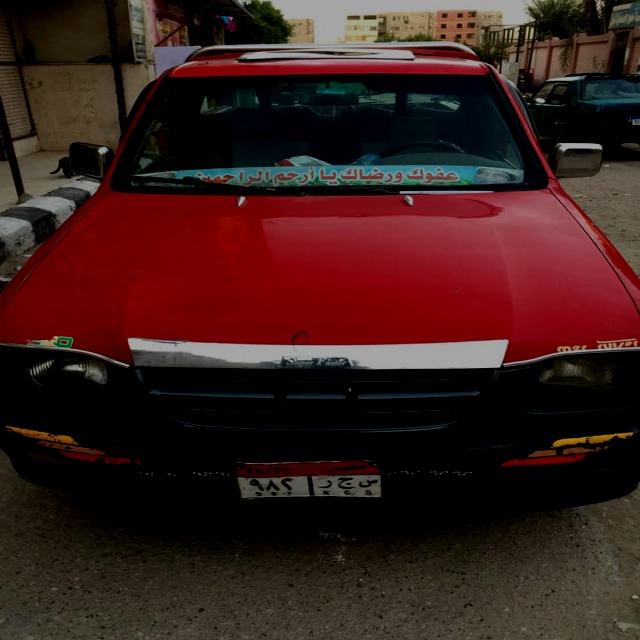License Plate: (228, 456, 389, 503)
